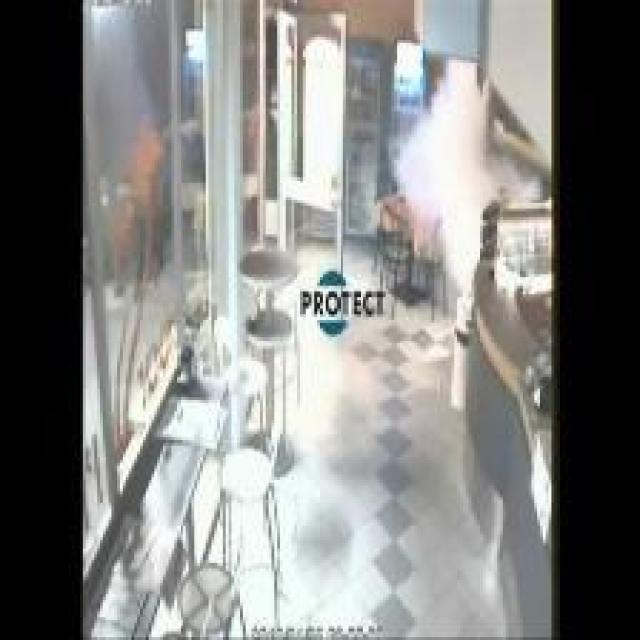fire: (396, 60, 493, 289)
